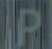Parking: (14, 5, 47, 48)
